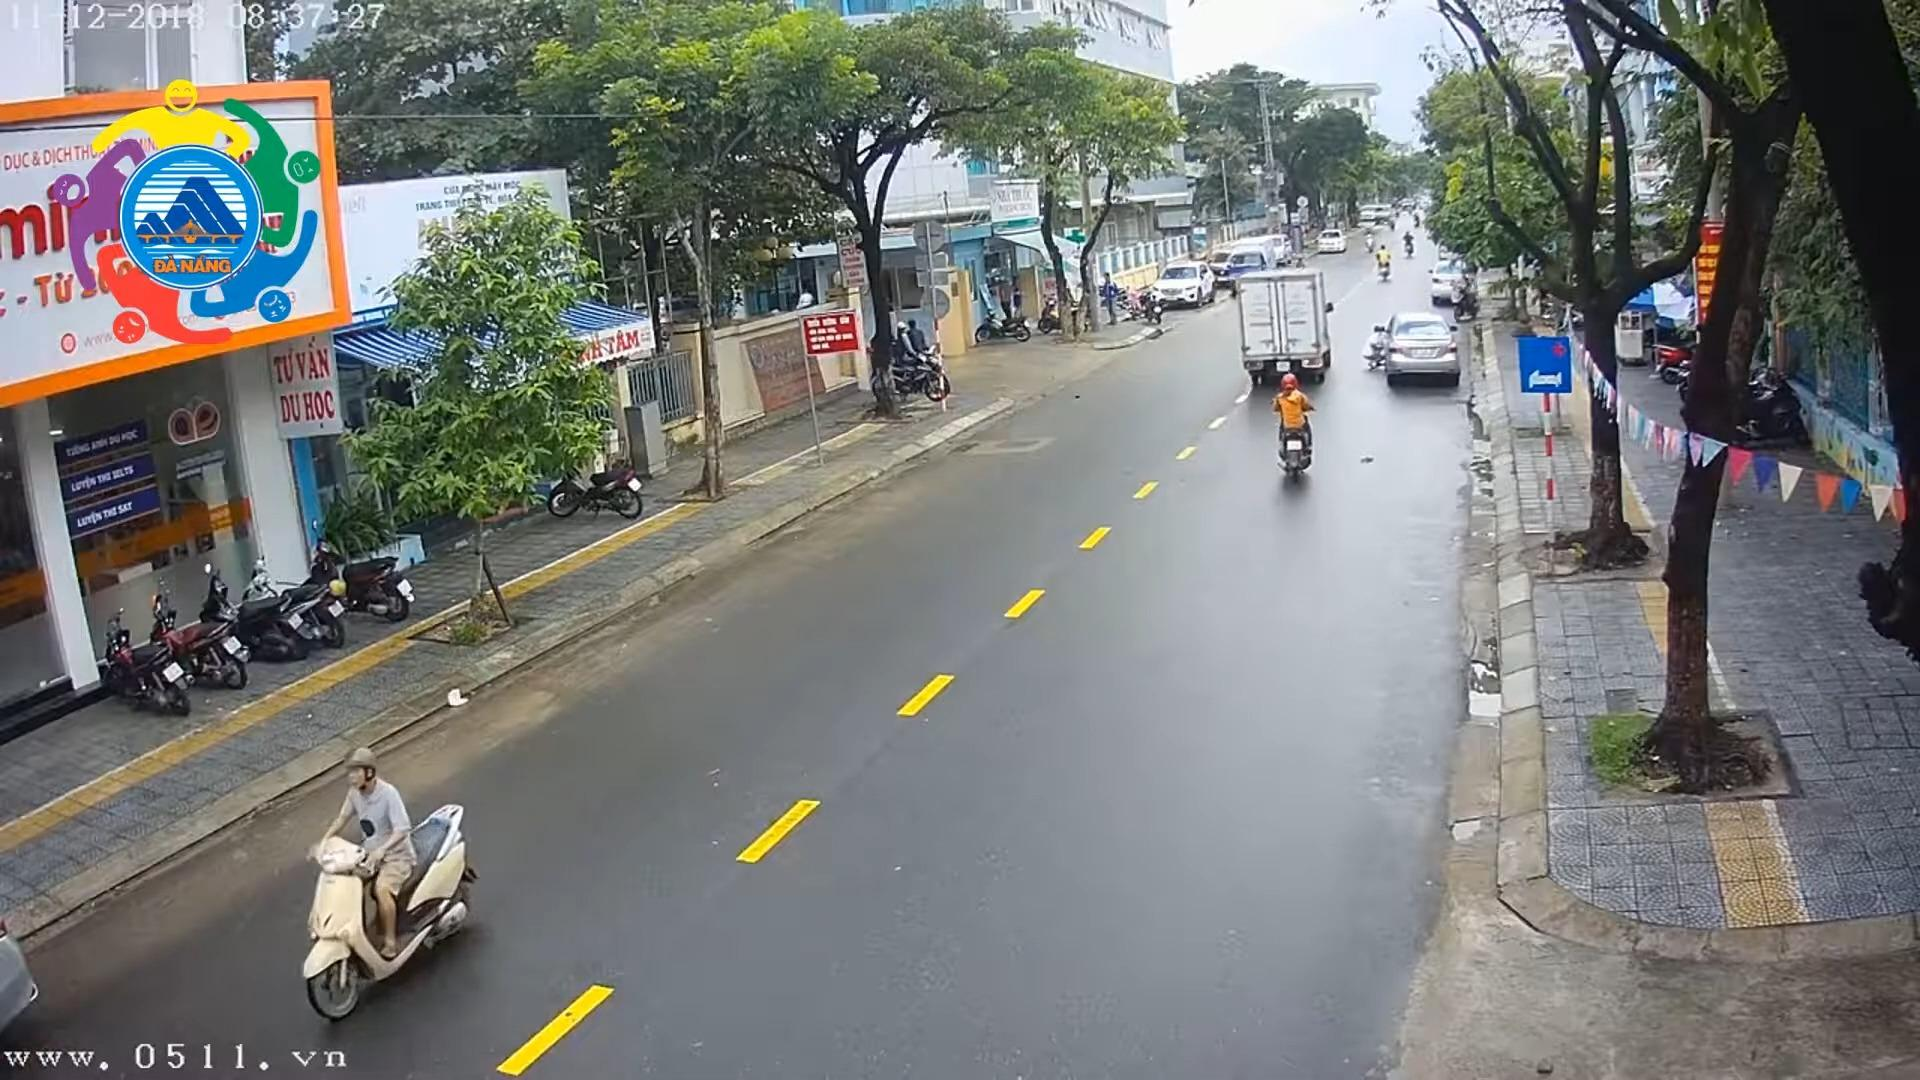car: (1378, 297, 1472, 393), (1149, 256, 1224, 311), (1424, 260, 1485, 309), (1315, 224, 1346, 255)
motorcycle: (302, 731, 487, 1033), (142, 587, 258, 692), (305, 516, 417, 624), (194, 567, 316, 661), (102, 600, 200, 715), (243, 554, 353, 651), (1262, 361, 1340, 493), (546, 450, 645, 524), (865, 338, 953, 406), (1373, 237, 1399, 289), (1396, 224, 1424, 266)
truck: (1224, 262, 1338, 392), (1224, 232, 1284, 298)
